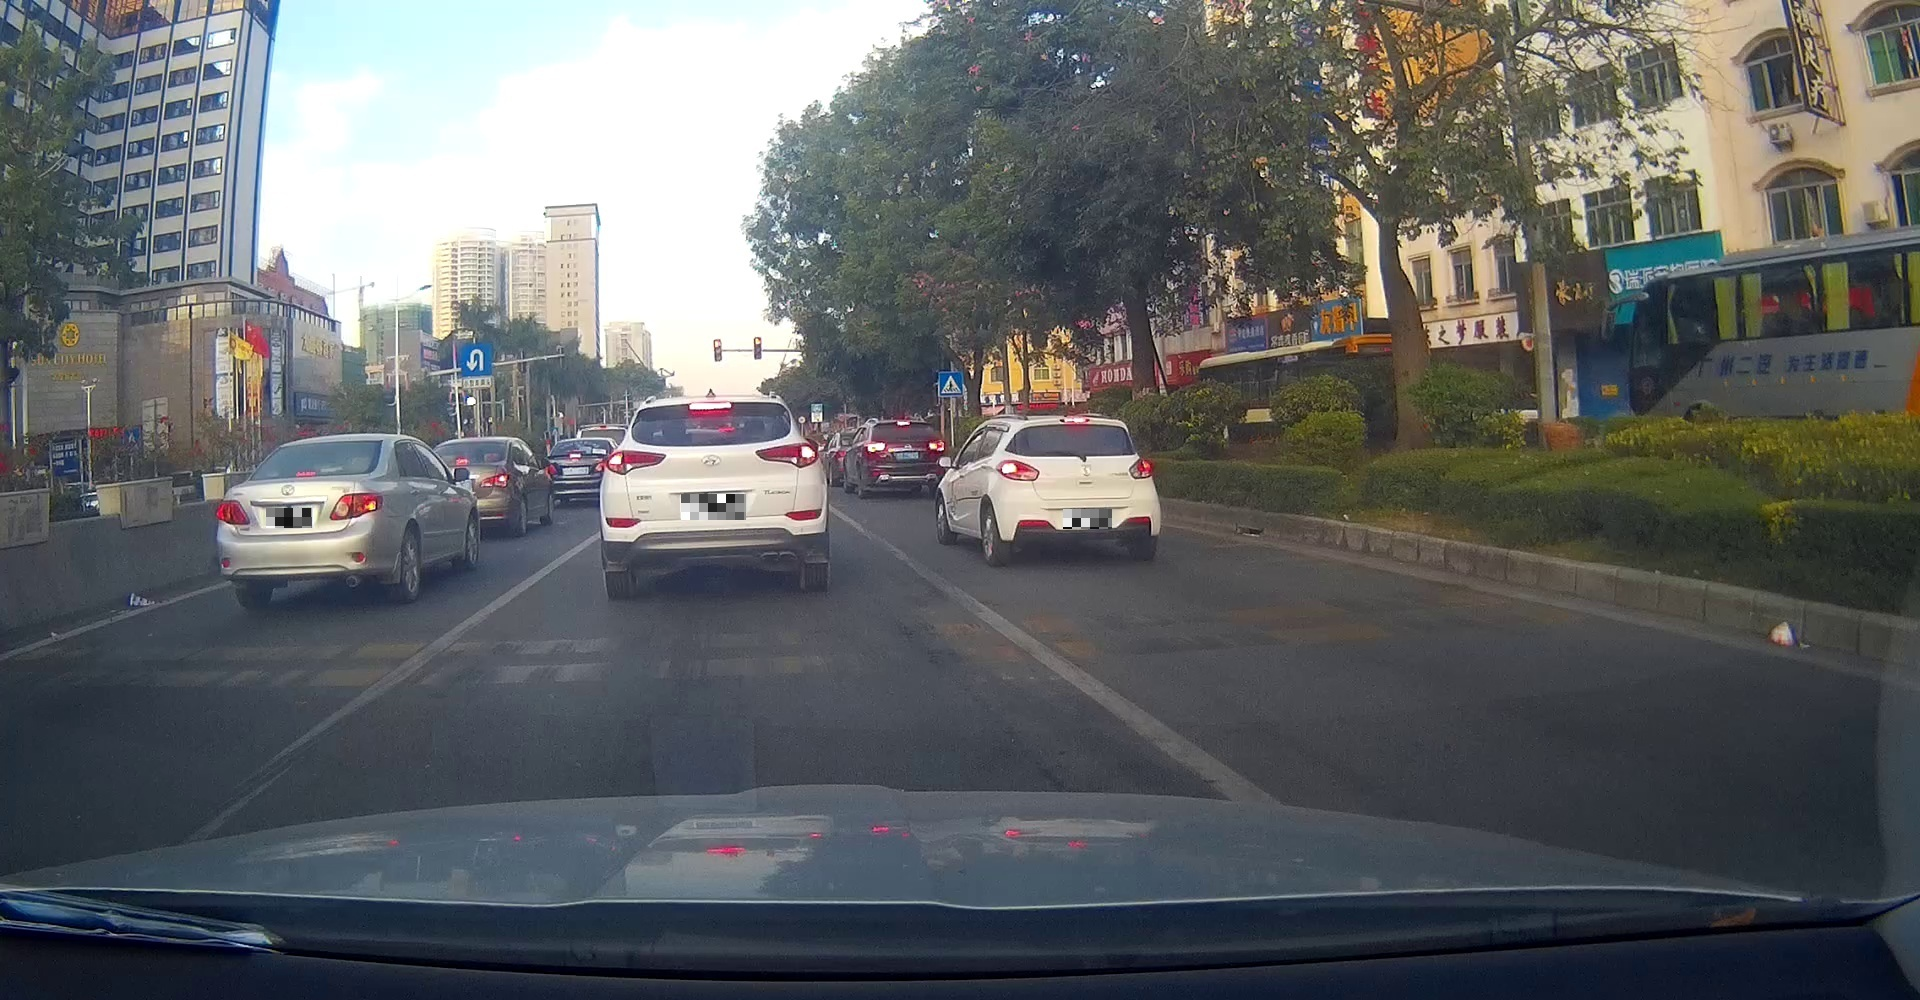L_light: (604, 449, 667, 475), (994, 459, 1040, 481), (216, 500, 251, 525), (863, 442, 889, 458)
R_light: (753, 442, 820, 468), (329, 492, 383, 520), (1128, 457, 1156, 478), (924, 439, 947, 456)
T_light: (688, 402, 731, 410), (1062, 416, 1090, 423), (295, 471, 317, 477), (897, 421, 910, 426)
day-brake: (599, 390, 827, 596), (215, 434, 383, 608), (996, 415, 1161, 565), (862, 418, 947, 497)
plate_1: (265, 508, 312, 528)
plate_2: (681, 494, 745, 520)
plate_3: (1063, 509, 1112, 529)
